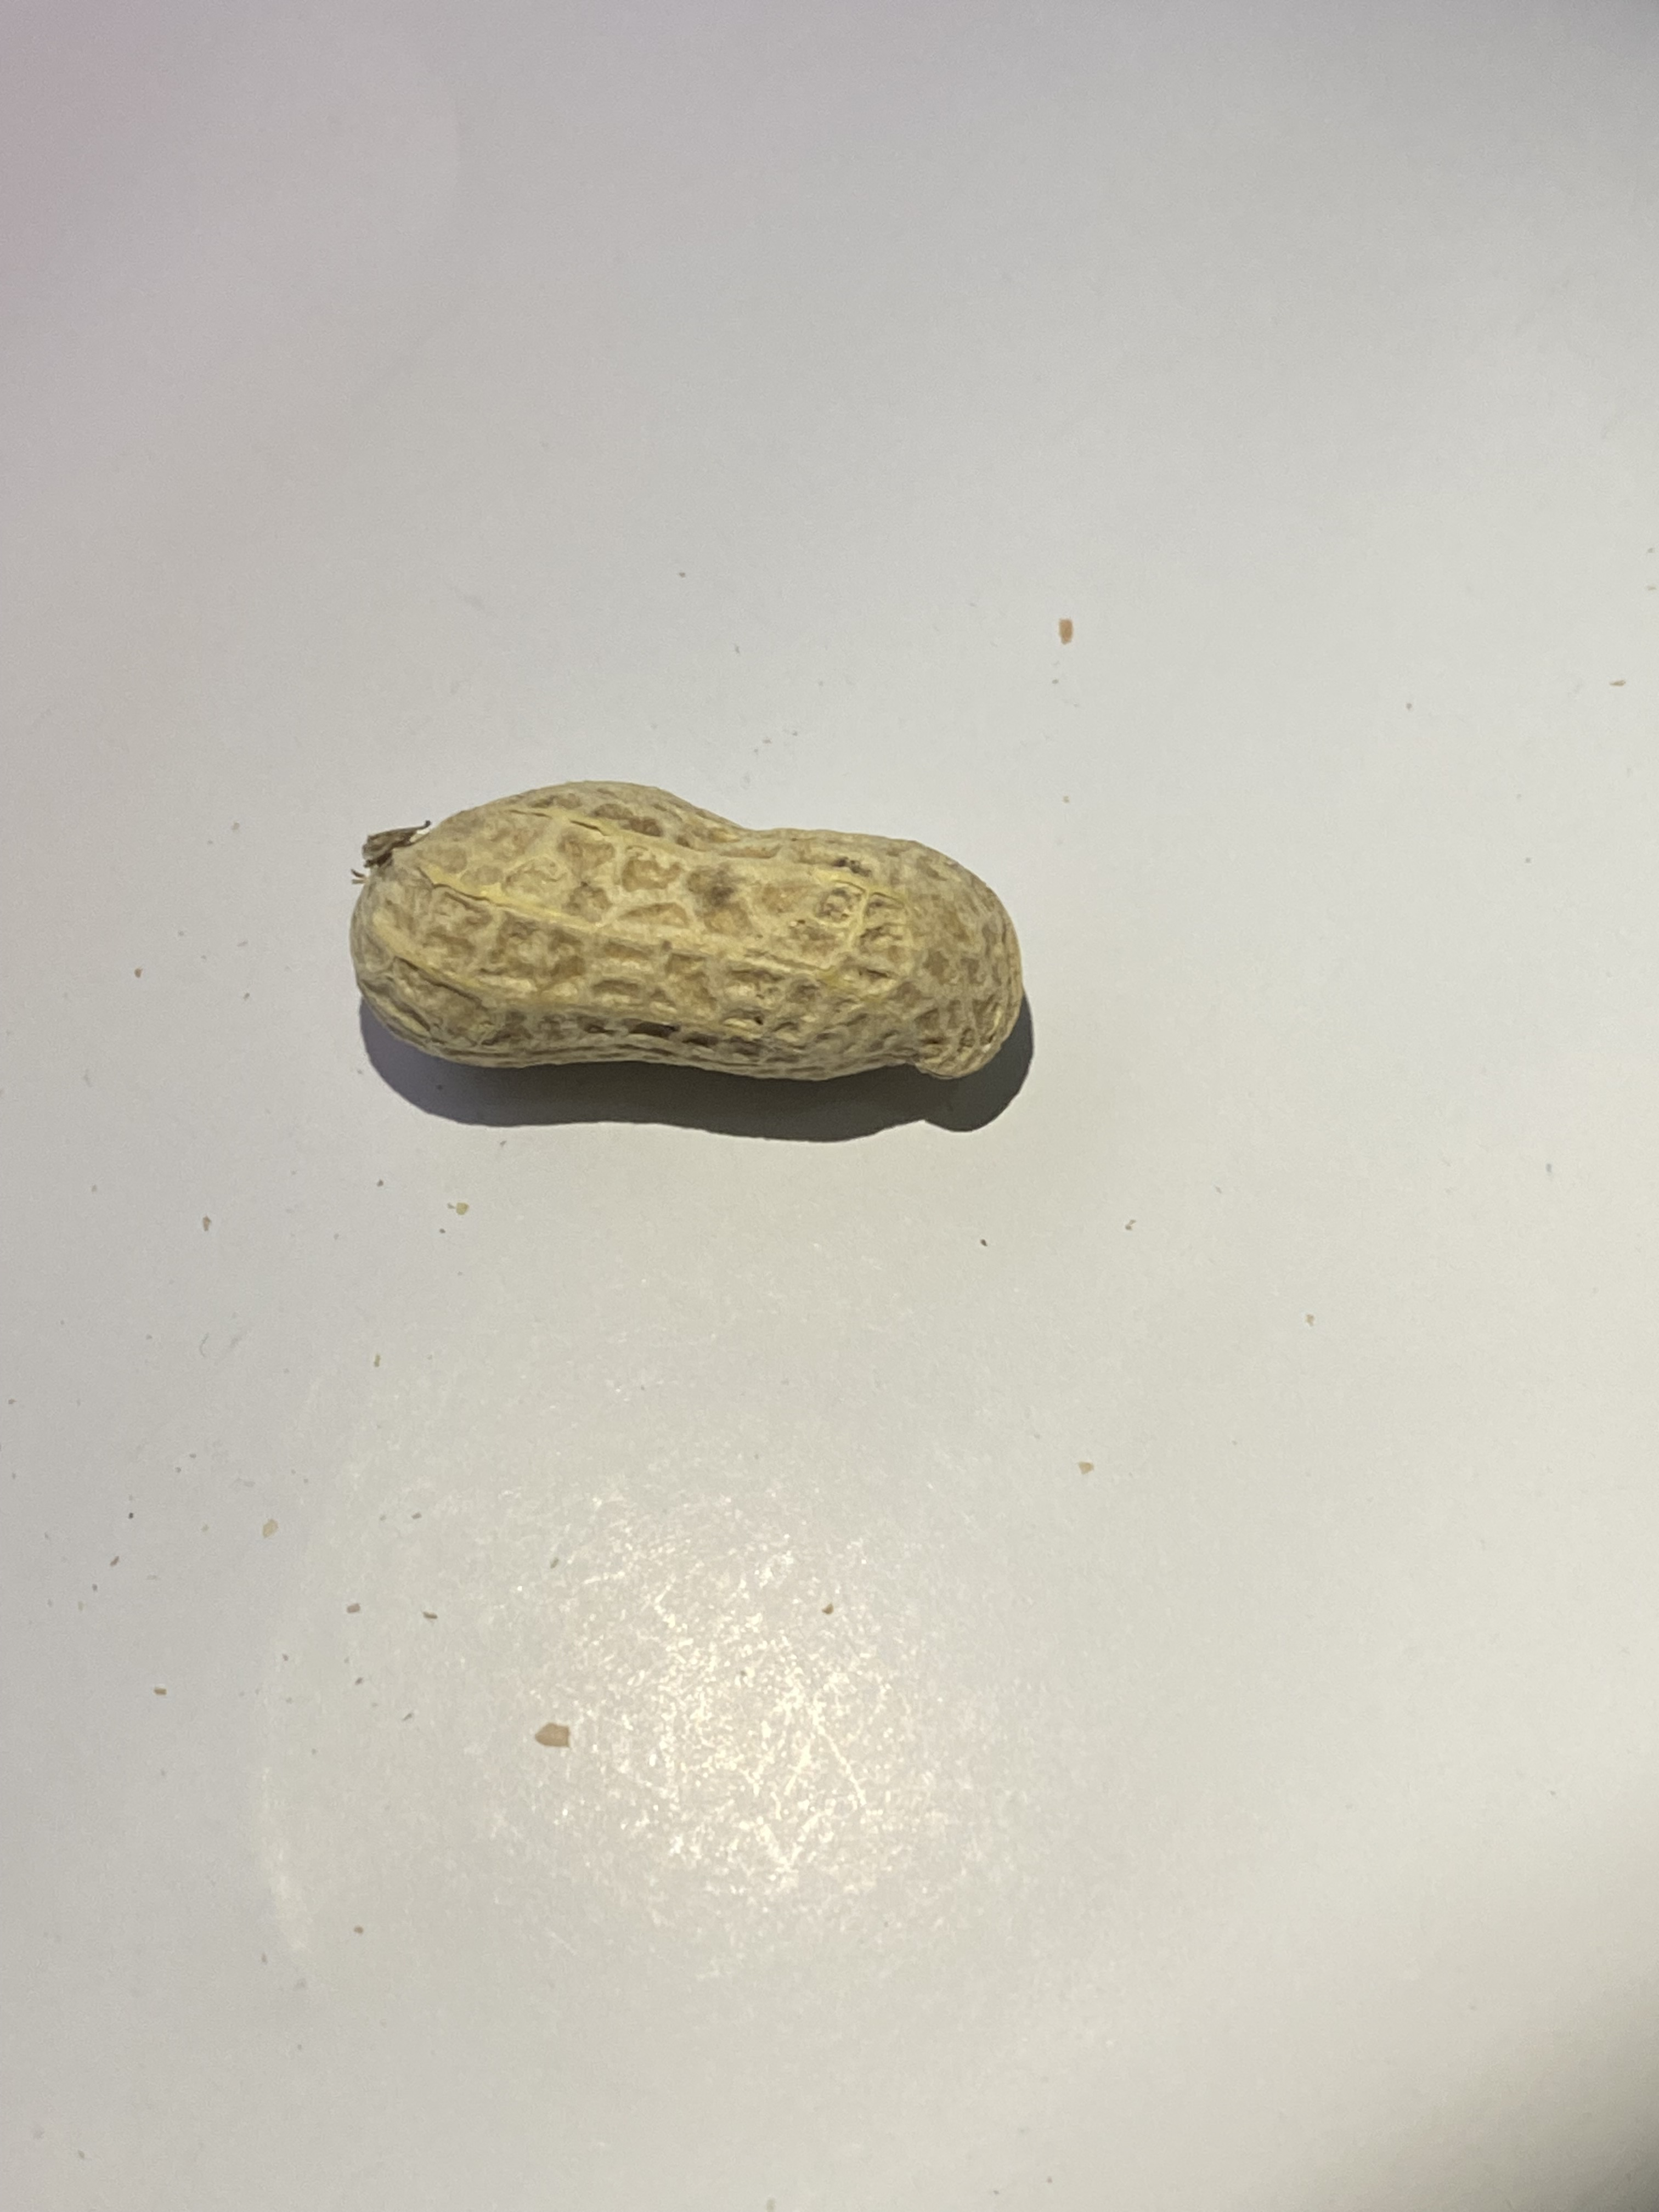kacang2: (317, 756, 1037, 1106)
